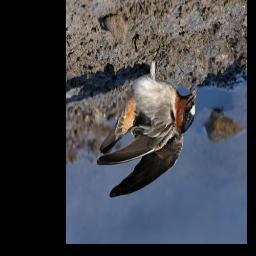Swallow: (97, 45, 197, 199)
